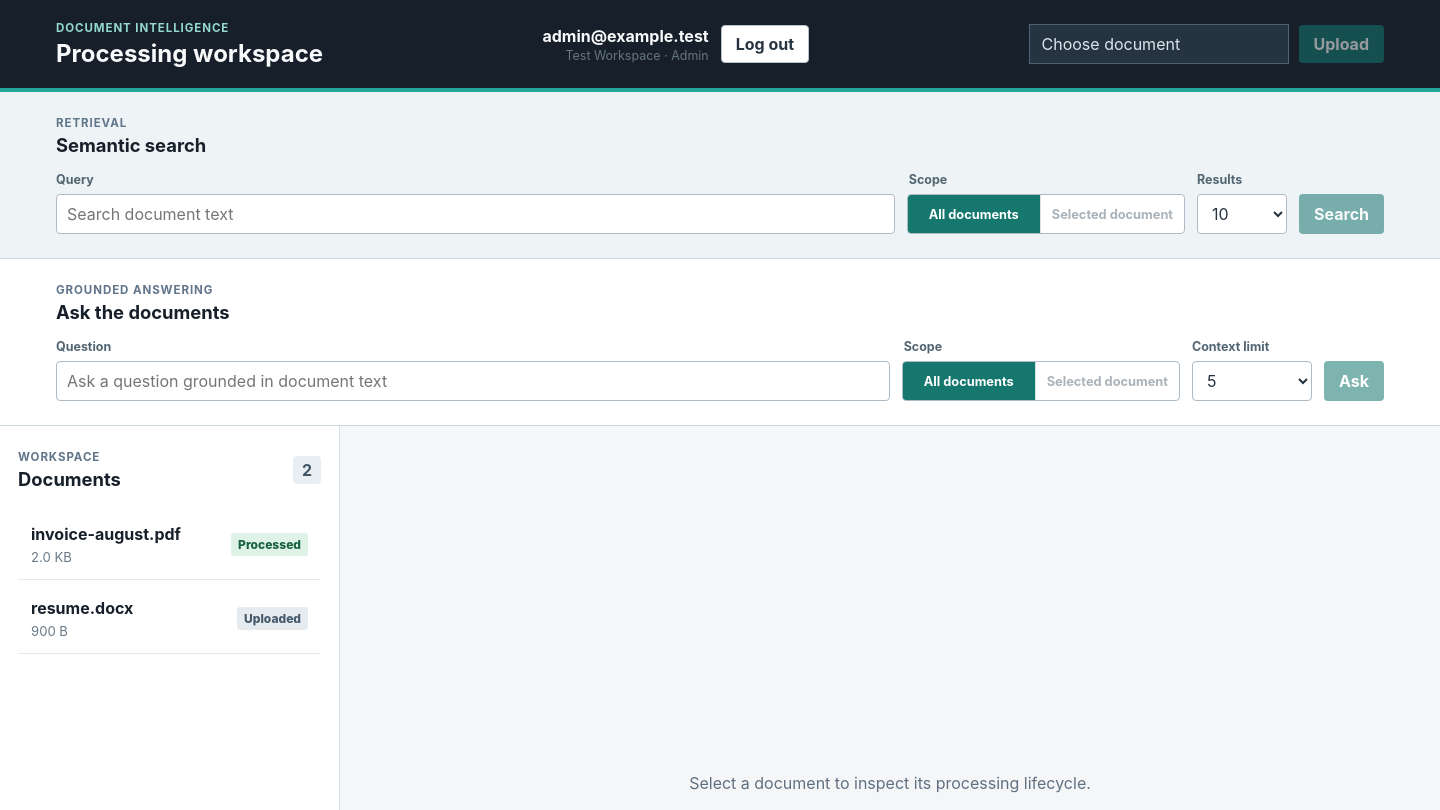
Scenario: document workspace › renders queued, running, succeeded, and failed jobs with stable error codes
This screenshot has width=1440, height=810.
Click the button "invoice-august.pdf 2.0 KB Processed". click: x=170, y=544
box: x1=18 y1=508 x2=321 y2=580
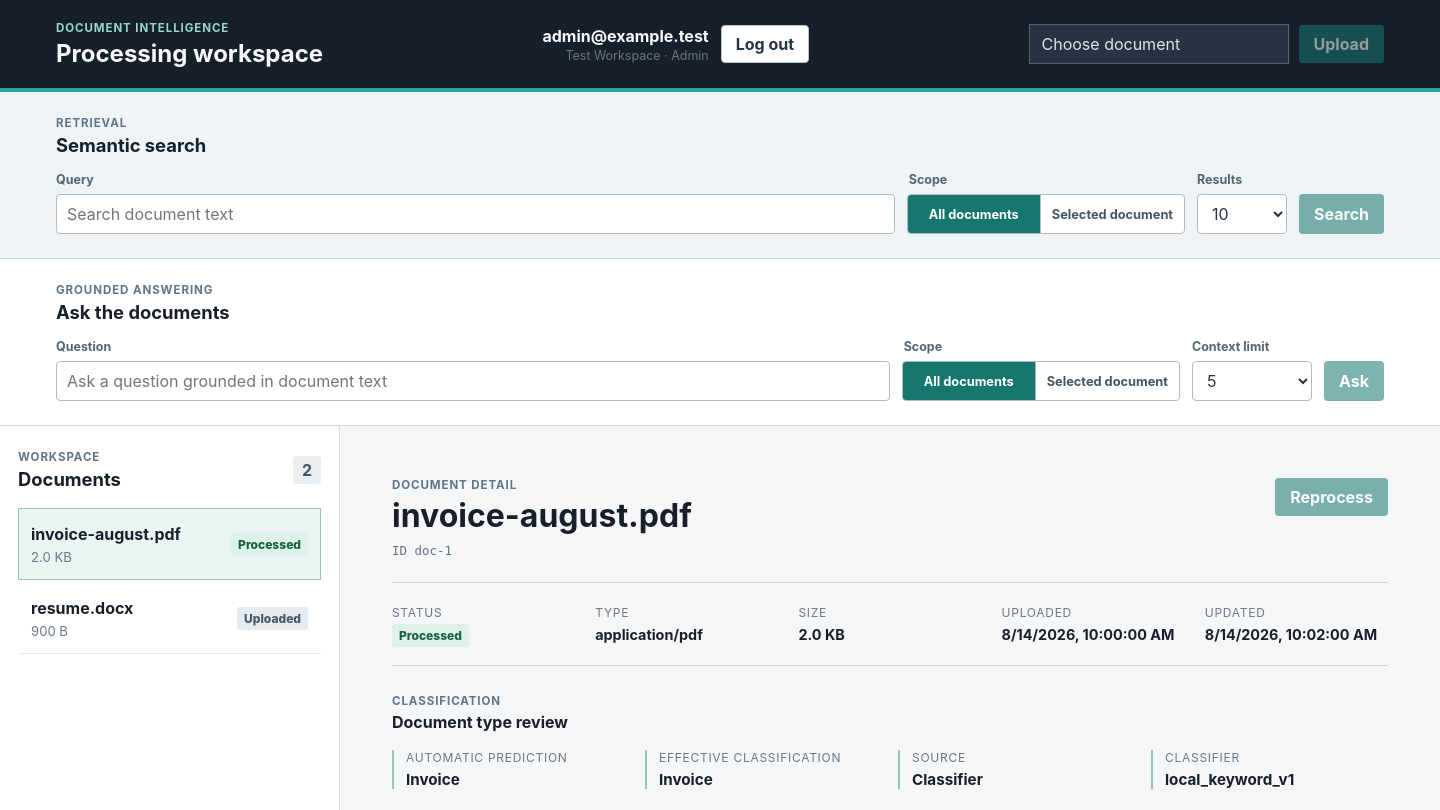
Check: the button "Reprocess" is disabled, box x1=1275 y1=478 x2=1388 y2=516
